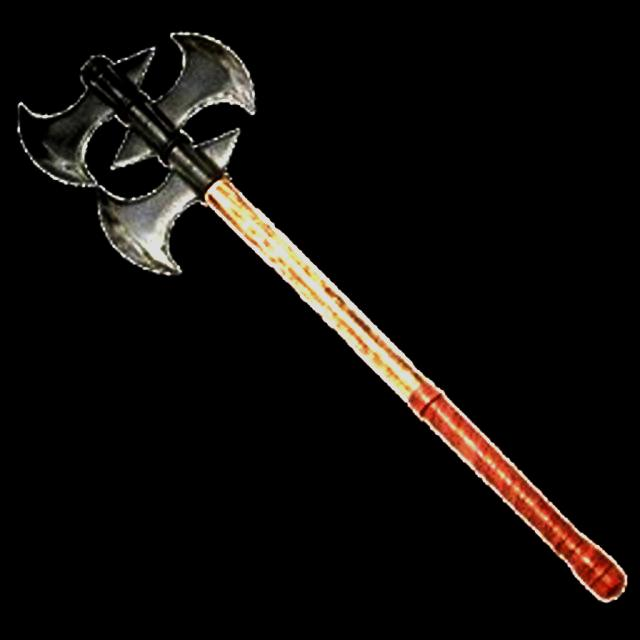ax: (8, 19, 634, 613)
